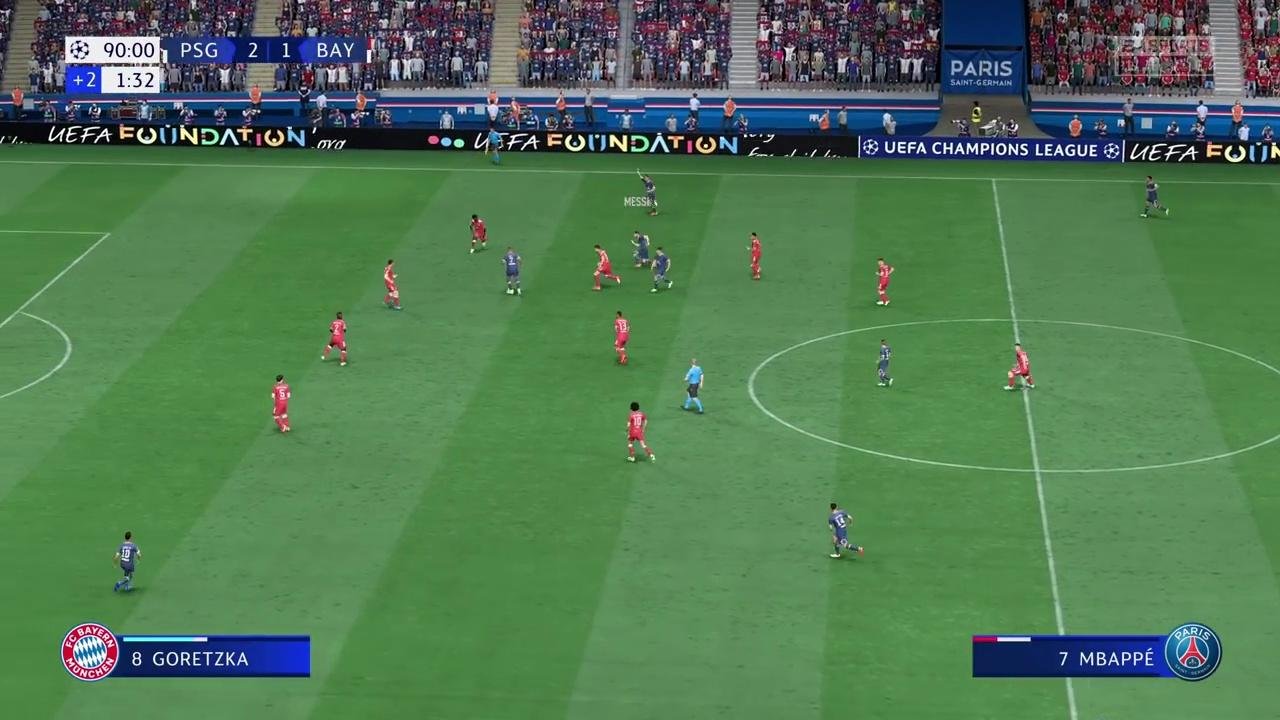scoreboard: (165, 36, 370, 64)
timestamp: (58, 33, 163, 96)
